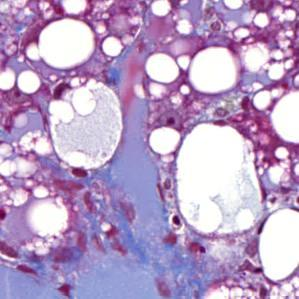steatosis: (37, 15, 97, 68), (184, 45, 244, 98)
